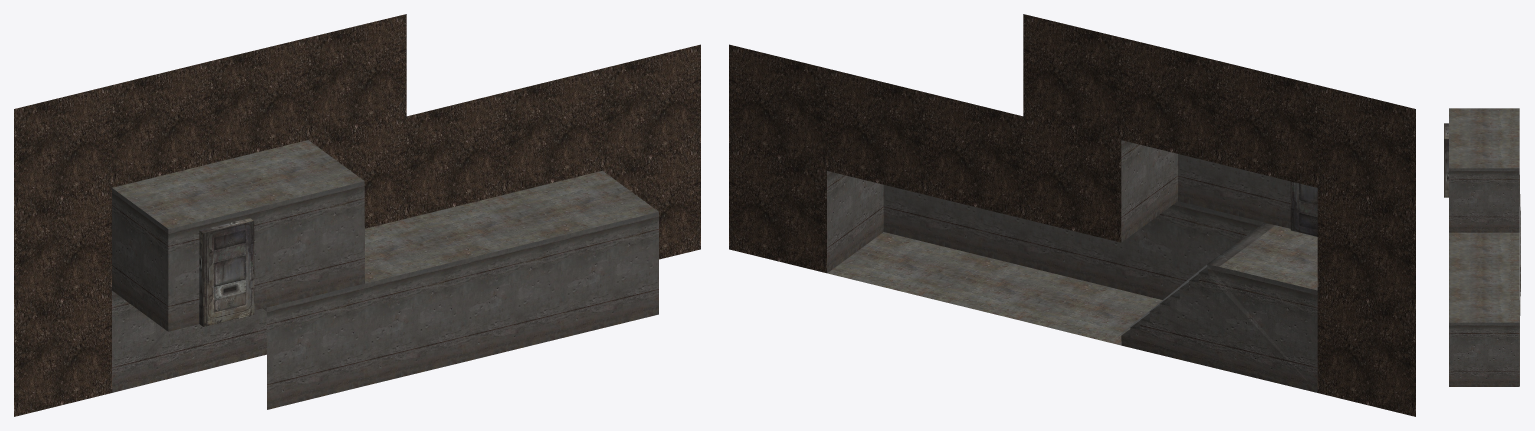
Rendered from Level_0.FBX.
The picture shows the model from 3 angles, left to right: view 1: azimuth 30°, elevation 25°; view 2: azimuth 150°, elevation 25°; view 3: azimuth 270°, elevation 25°; orthographic projection. The views are drawn at different scales.
Visible parts, largest first — view 1: Room_0; view 2: Room_0; view 3: Room_0.
Boxes of the visible parts, left/top/right/bottom form: Room_0: left=14, top=14, right=700, bottom=416; Room_0: left=729, top=14, right=1415, bottom=416; Room_0: left=1444, top=108, right=1520, bottom=386.
Bounding box in the file's own units: 700 × 108 × 300.
